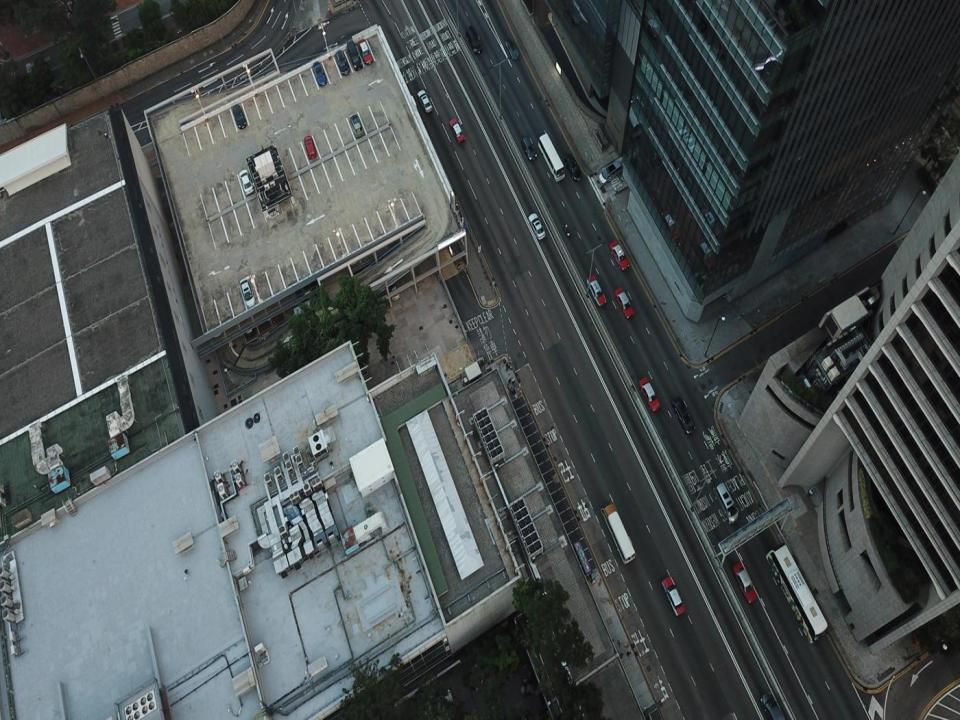bus: (766, 543, 828, 645), (600, 501, 636, 564), (538, 132, 565, 181)
car: (732, 562, 757, 603), (714, 481, 738, 522), (662, 576, 685, 616), (672, 397, 696, 433), (638, 378, 660, 412), (760, 693, 786, 719), (586, 274, 606, 307), (614, 287, 634, 317), (610, 241, 628, 272), (564, 153, 581, 181), (528, 213, 545, 240), (239, 278, 254, 308), (448, 118, 466, 143), (239, 169, 254, 196), (358, 39, 373, 66), (417, 88, 433, 112), (521, 136, 536, 160), (387, 275, 400, 302), (313, 60, 326, 87), (208, 311, 222, 336), (350, 113, 364, 138), (336, 50, 350, 75), (233, 103, 246, 129), (304, 135, 316, 160), (242, 316, 255, 337), (506, 38, 518, 60)
van: (599, 160, 622, 185), (346, 40, 364, 71), (466, 25, 483, 54)
